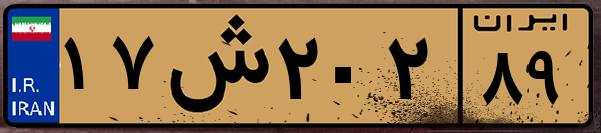0: (330, 28, 385, 110)
1: (57, 26, 110, 100)
2: (270, 28, 330, 110), (385, 28, 445, 110)
7: (110, 28, 158, 98)
8: (475, 38, 525, 113)
9: (525, 38, 570, 115)
ش: (158, 12, 270, 120)
